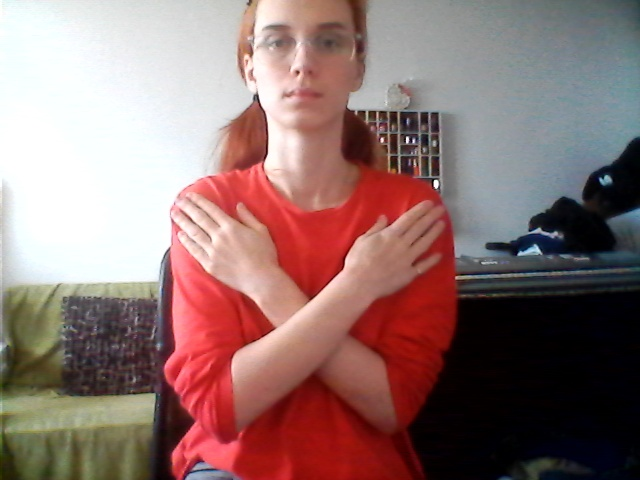z: (168, 188, 449, 432)
